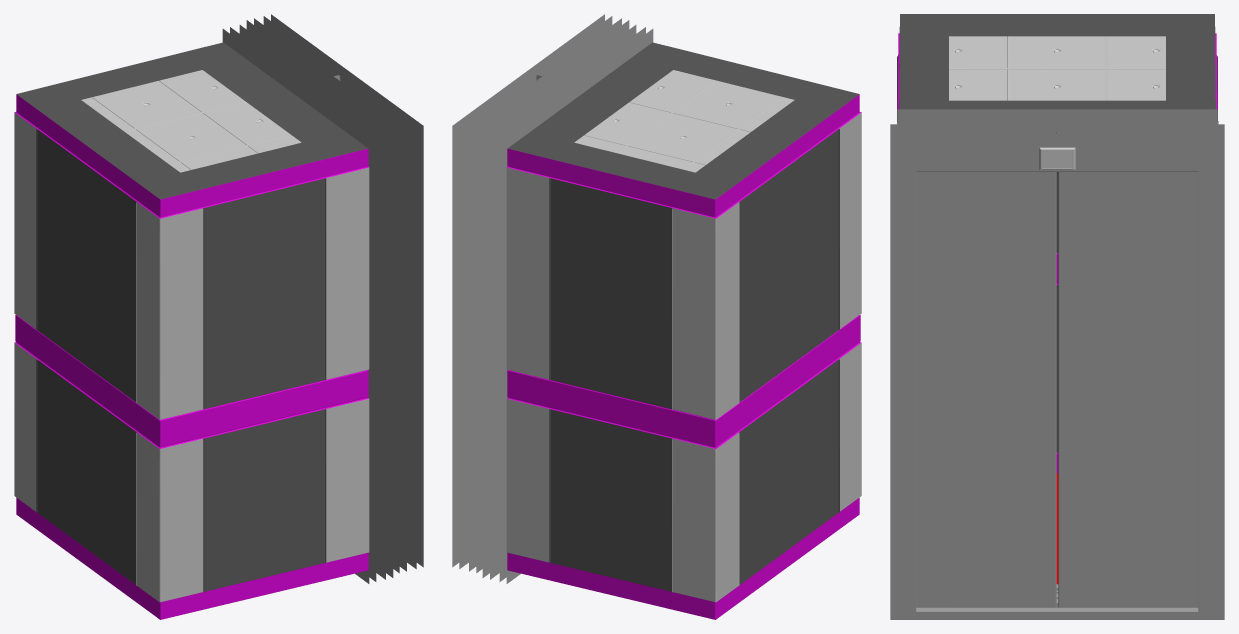
Rendered from Elevator_geo.fbx.
The picture shows the model from 3 angles, left to right: view 1: azimuth 30°, elevation 25°; view 2: azimuth 150°, elevation 25°; view 3: azimuth 270°, elevation 25°; orthographic projection. The views are drawn at different scales.
Parts seen in each view (by area): view 1: Elevator_shell, Elevator_connector_out, Elevator_connector_in, Elevator_inner_ceiling; view 2: Elevator_shell, Elevator_connector_out, Elevator_connector_in, Elevator_inner_ceiling; view 3: Elevator_door_outer_L, Elevator_door_outer_R, Elevator_connector_out, Elevator_shell, Elevator_inner_ceiling, Elevator_connector_in, Elevator_floor_indicator_out.
Part boxes in pixels (left/top/right/bottom): Elevator_shell: left=14, top=42, right=369, bottom=619; Elevator_connector_out: left=246, top=14, right=423, bottom=573; Elevator_connector_in: left=222, top=23, right=393, bottom=583; Elevator_inner_ceiling: left=81, top=70, right=301, bottom=172; Elevator_shell: left=506, top=42, right=861, bottom=619; Elevator_connector_out: left=452, top=14, right=629, bottom=573; Elevator_connector_in: left=482, top=23, right=653, bottom=583; Elevator_inner_ceiling: left=574, top=70, right=794, bottom=172; Elevator_door_outer_L: left=912, top=132, right=1056, bottom=607; Elevator_door_outer_R: left=1058, top=132, right=1202, bottom=607; Elevator_connector_out: left=890, top=124, right=1224, bottom=619; Elevator_shell: left=897, top=14, right=1218, bottom=584; Elevator_inner_ceiling: left=949, top=36, right=1165, bottom=100; Elevator_connector_in: left=897, top=109, right=1217, bottom=598; Elevator_floor_indicator_out: left=1039, top=147, right=1075, bottom=169.
Bounding box in the file's own units: 161 × 263 × 162.
